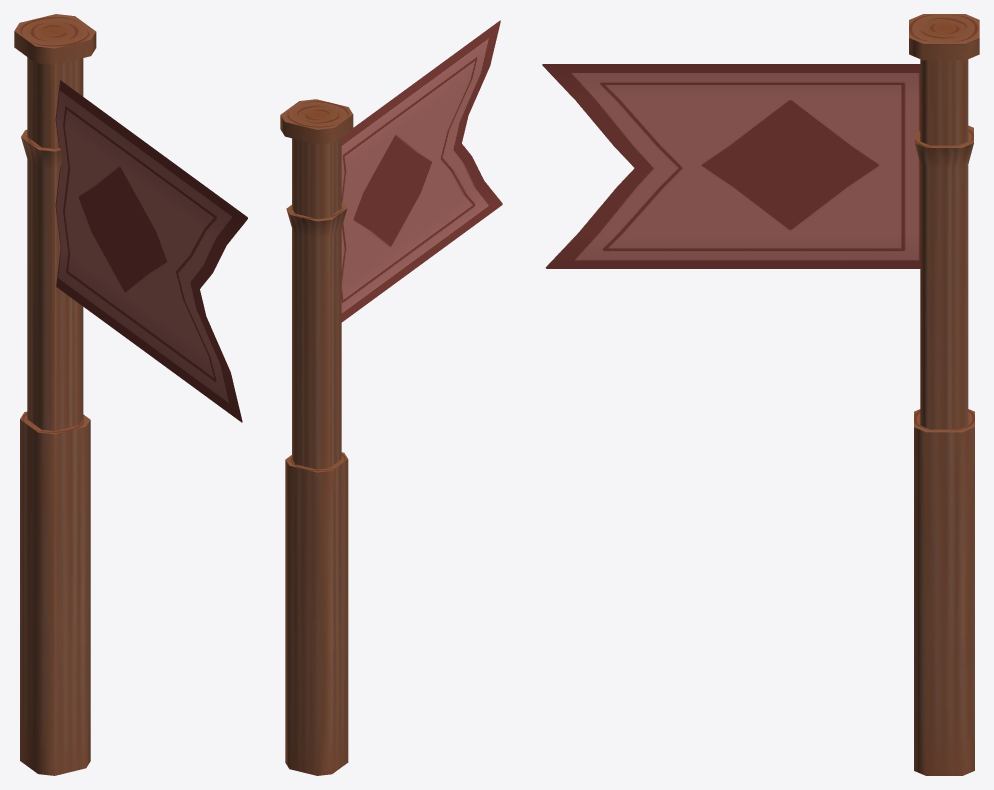
File: Hard Wood Flag Post Hand.fbx
3 renders of one model, left to right at view 1: azimuth 30°, elevation 25°; view 2: azimuth 150°, elevation 25°; view 3: azimuth 270°, elevation 25°, orthographic. The views are drawn at different scales.
Visible parts, largest first — view 1: FencePost (1), Flag (2); view 2: FencePost (1), Flag (2); view 3: Flag (2), FencePost (1).
Part boxes in pixels (box(x1,y1,x2,y2)): FencePost (1): box(14, 14, 96, 775); Flag (2): box(55, 80, 247, 422); FencePost (1): box(280, 99, 353, 775); Flag (2): box(341, 20, 502, 322); Flag (2): box(542, 64, 920, 268); FencePost (1): box(909, 14, 979, 775).
Size of the model in its own units: 0.1935 by 2.21 by 1.21.
